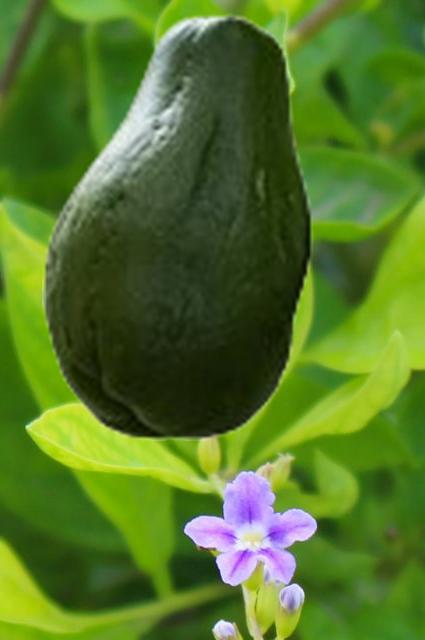sayote: (42, 13, 312, 439)
